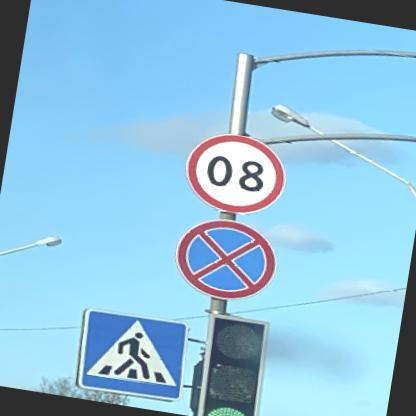crosswalk: (72, 304, 193, 402)
speedlimit: (182, 126, 292, 218)
trafficlight: (193, 309, 275, 415)
